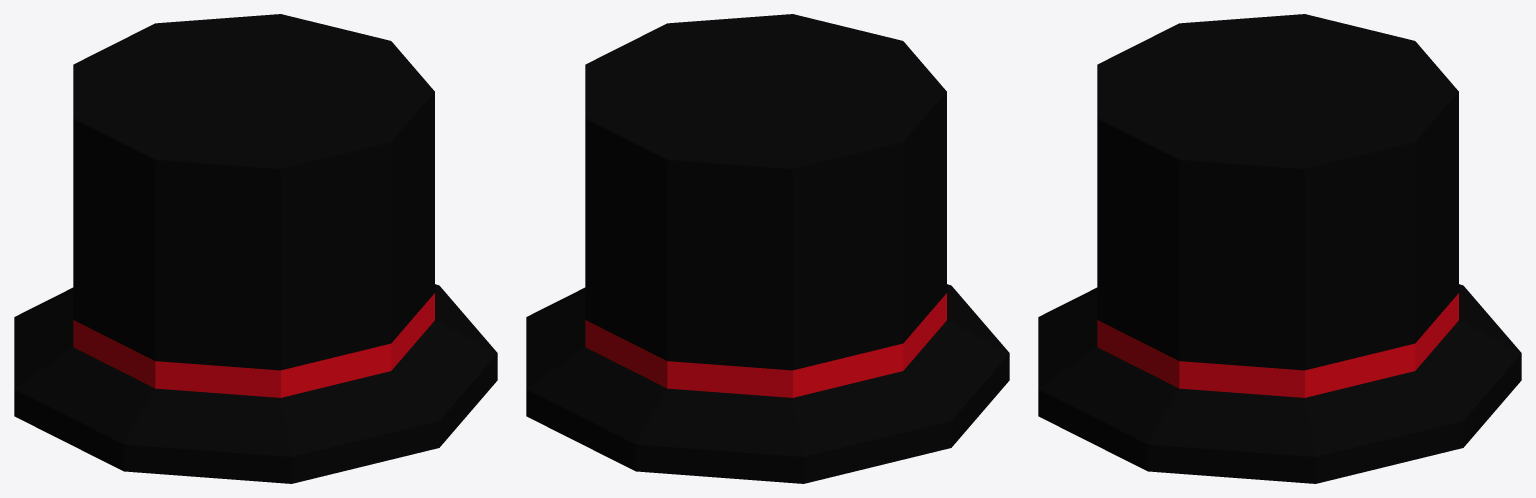
File: hat.fbx
3 views of the same model, side by side, from view 1: azimuth 30°, elevation 25°; view 2: azimuth 150°, elevation 25°; view 3: azimuth 270°, elevation 25° (orthographic).
Visible parts, largest first — view 1: Цилиндр; view 2: Цилиндр; view 3: Цилиндр.
Boxes of the visible parts, x1,y1,x2,y2 form: Цилиндр: (14,14,497,483); Цилиндр: (526,14,1009,483); Цилиндр: (1038,14,1521,483).
Bounding box in the file's own units: 197 × 128 × 194.
